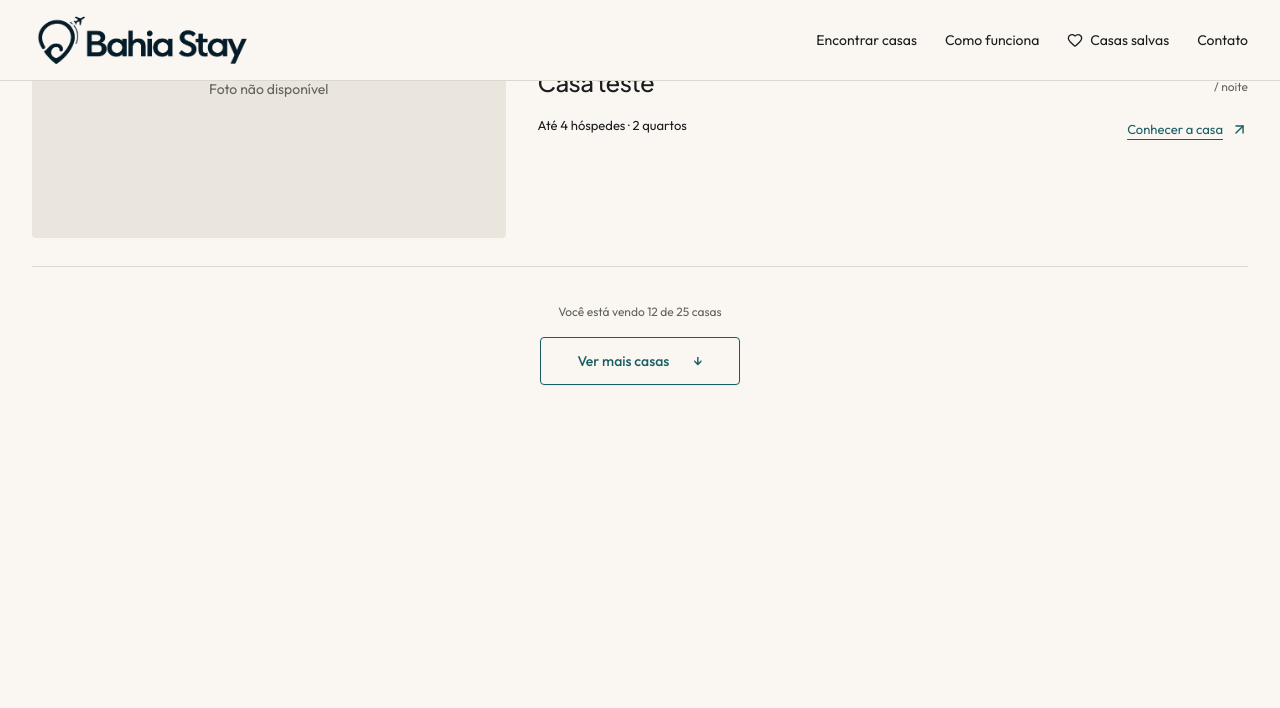
Test case: catalogue reveals more houses without losing filters or duplicating results
(page scrolled)
Click the button with test id "show-more-houses": (640, 361) 540,337 -> 740,385
(page scrolled)
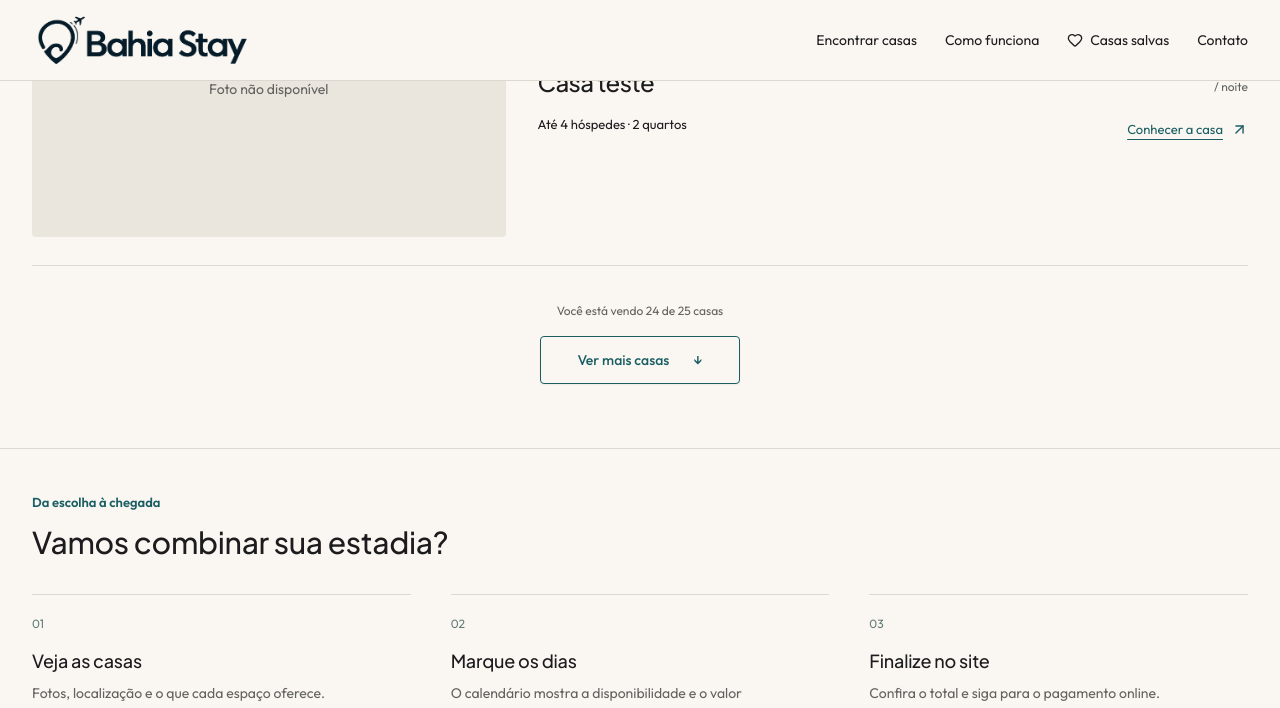
Click the button with test id "show-more-houses": (640, 360) 540,336 -> 740,384
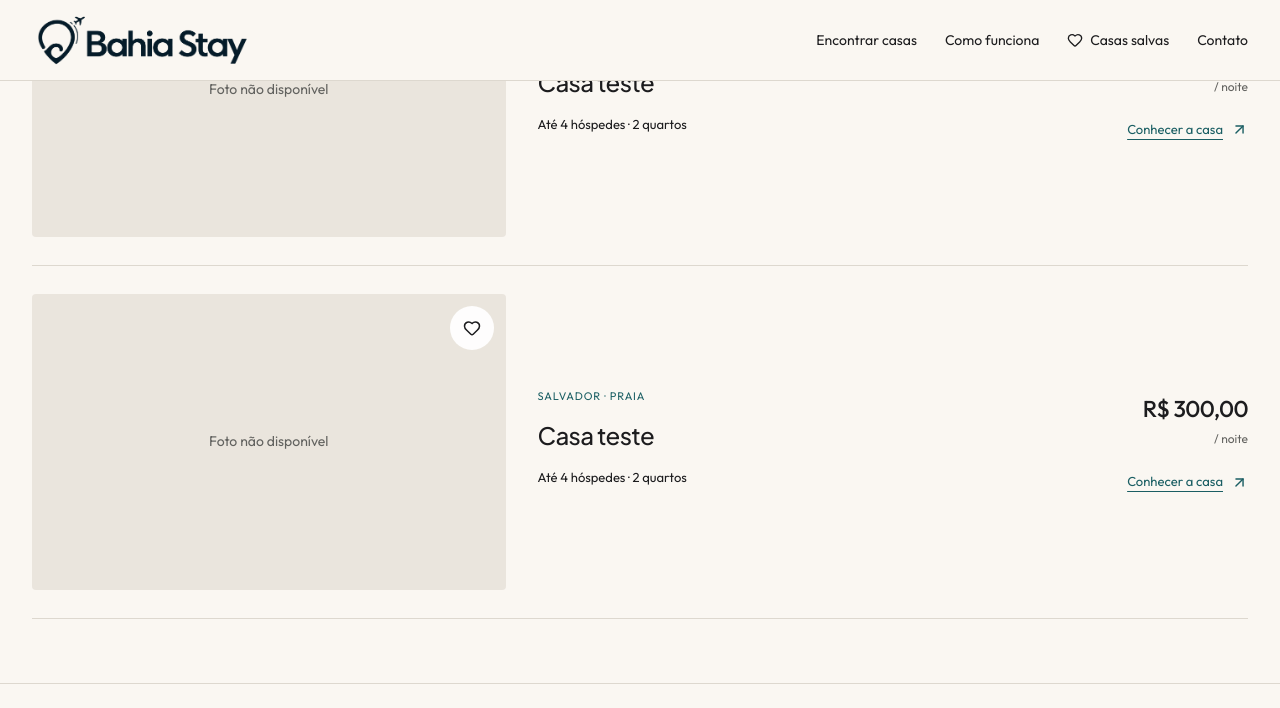
Now the button with test id "show-more-houses" is gone
